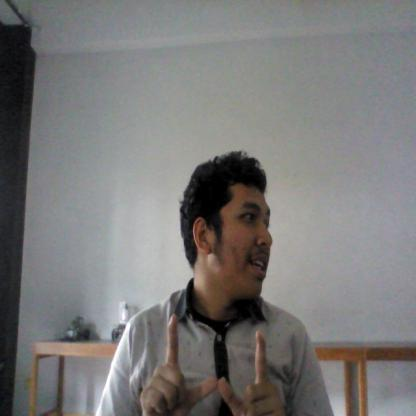W: (138, 311, 287, 416)
